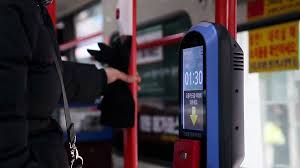terminal: (176, 19, 246, 168)
